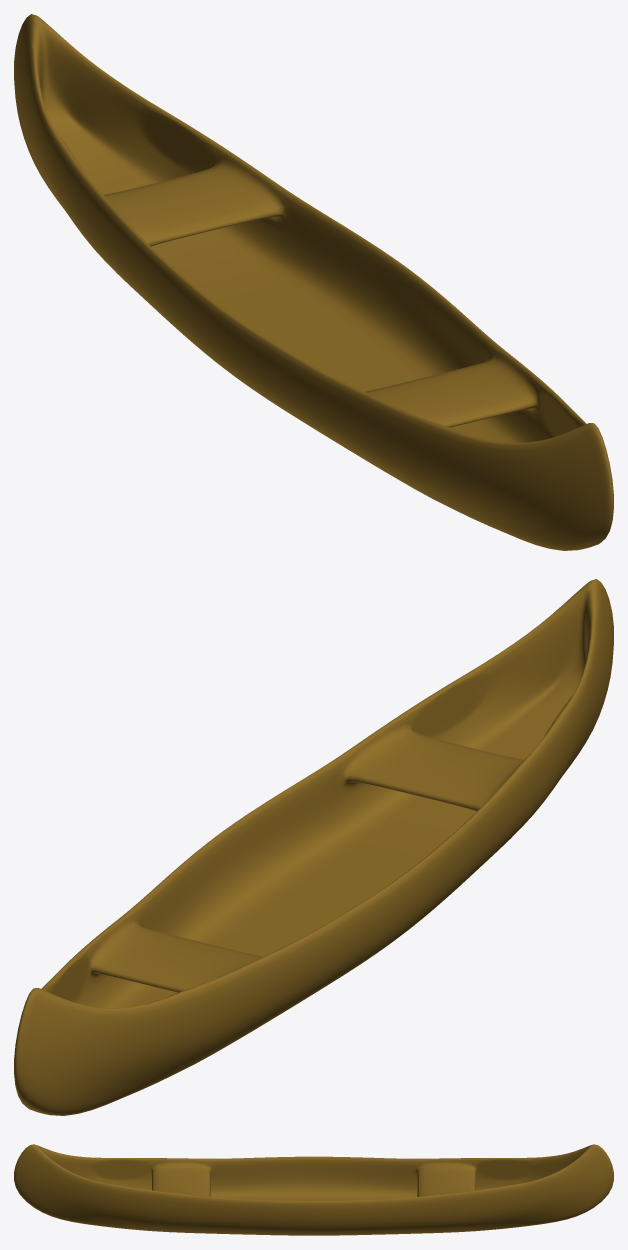
File: mdl_zesty_z09_canoe.gltf
3 renders of one model, top to bottom at view 1: azimuth 30°, elevation 25°; view 2: azimuth 150°, elevation 25°; view 3: azimuth 270°, elevation 25°, orthographic. The views are drawn at different scales.
Parts seen in each view (by area): view 1: Cube; view 2: Cube; view 3: Cube.
Boxes of the visible parts, x1=… form: Cube: x1=14, y1=14, x2=613, y2=550; Cube: x1=14, y1=579, x2=613, y2=1115; Cube: x1=14, y1=1144, x2=613, y2=1235.
Size of the model in its own units: 1.95 by 1.58 by 10.63.
